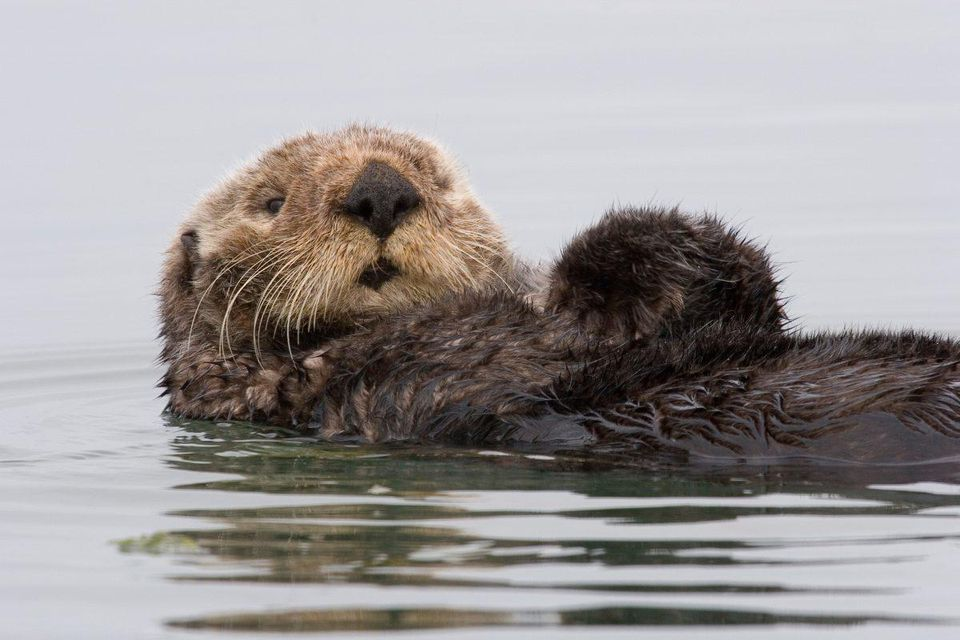otter: (123, 73, 960, 541)
